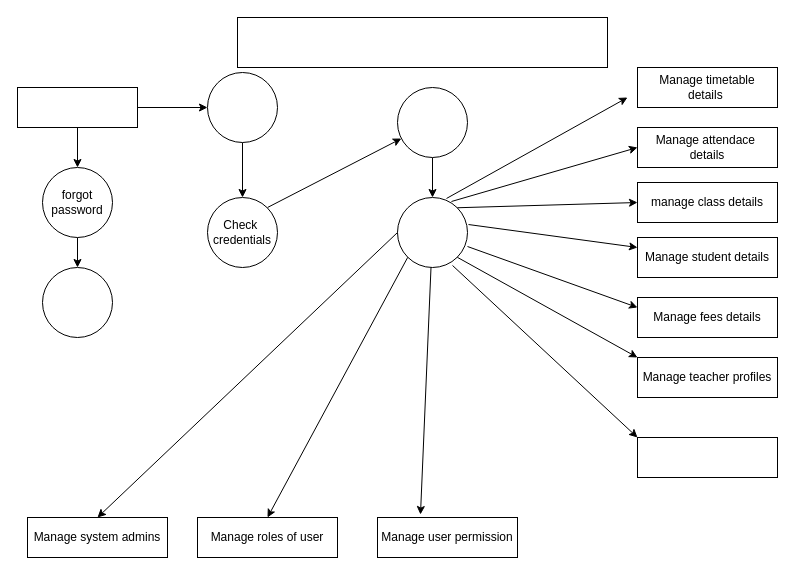
Image size: 795x575. Some labels were removed from this diagram. The centre of each missing label's shape, as x and y in pixels:
Admin: [77,107]
Check roles of access: [432,122]
Login to systen: [242,107]
Manage modules: [432,232]
Send email to User: [77,302]
Student Information System: [422,42]
